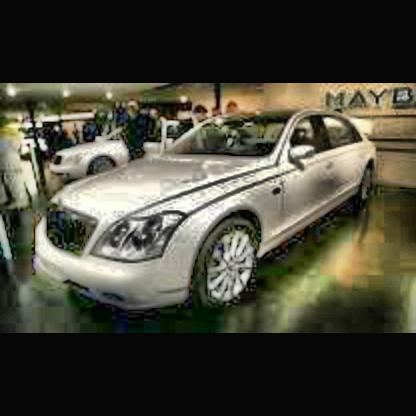Maybach Landaulet Convertible 2012: (33, 108, 377, 314)
